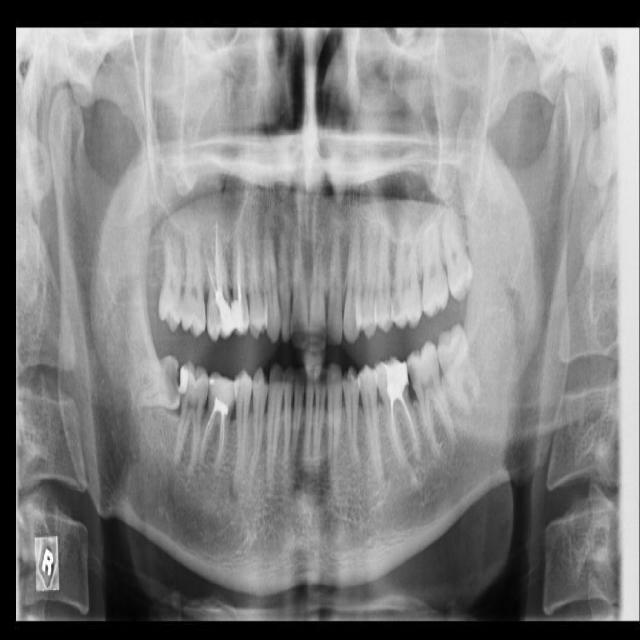Caries: (164, 364, 180, 403), (390, 284, 400, 315), (408, 365, 417, 388)
Filling: (206, 293, 236, 343), (374, 357, 409, 399), (207, 373, 238, 418), (231, 297, 249, 337), (178, 366, 190, 392)
Root Canal Treatment: (401, 400, 419, 454), (391, 404, 399, 459), (206, 244, 215, 290), (216, 414, 225, 460), (214, 223, 220, 286), (237, 233, 243, 292), (205, 412, 213, 435)
impacted tooth: (437, 326, 481, 412), (126, 358, 183, 407)
